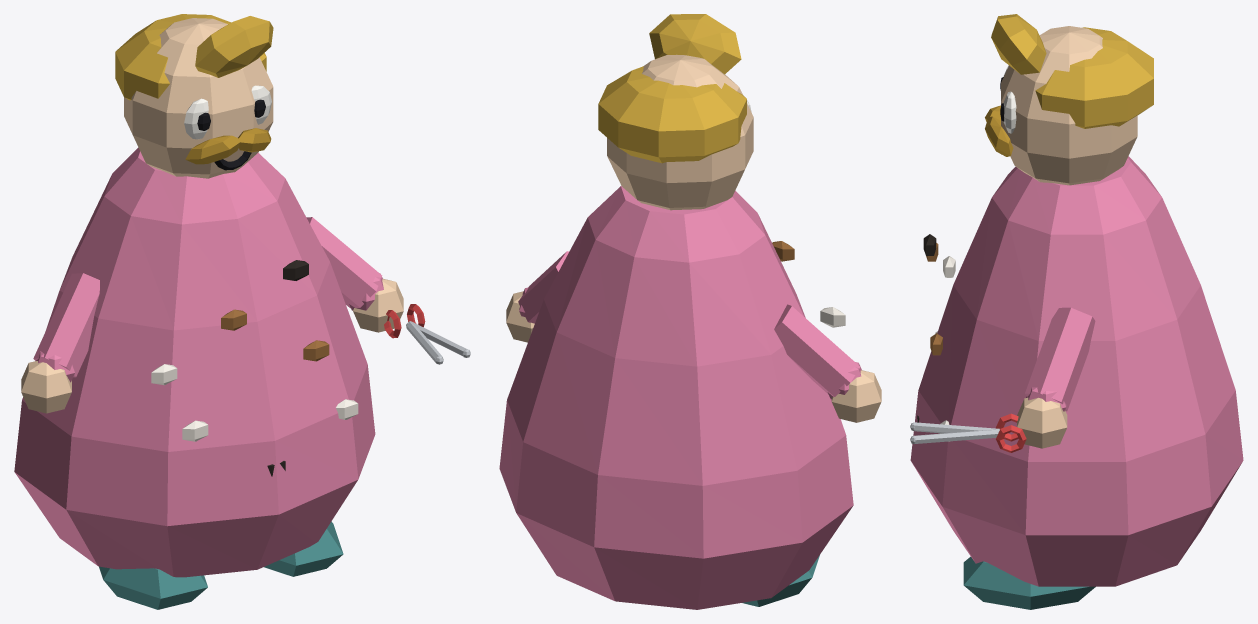
Rendered from npc_peluquero.glb.
3 views of the same model, side by side, from view 1: azimuth 30°, elevation 25°; view 2: azimuth 150°, elevation 25°; view 3: azimuth 270°, elevation 25° (orthographic).
Visible parts, largest first — view 1: body_groomer_smock, head_skin_crema, arms_groomer_smock, legs_clogs, arms_skin_crema, head_hair_blond, cap_hair_blond, face_mustache_blond, body_fur_white, face_white, props_silver, body_fur_brown (+1 smaller); view 2: body_groomer_smock, head_hair_blond, head_skin_crema, arms_groomer_smock, cap_hair_blond, arms_skin_crema, legs_clogs; view 3: body_groomer_smock, head_skin_crema, head_hair_blond, arms_groomer_smock, legs_clogs, cap_hair_blond, arms_skin_crema, props_silver, face_mustache_blond, props_scissor_grip, face_white.
Part boxes in pixels (left/top/right/bottom): body_groomer_smock: left=14, top=147, right=375, bottom=577; head_skin_crema: left=124, top=18, right=273, bottom=178; arms_groomer_smock: left=33, top=217, right=383, bottom=382; legs_clogs: left=99, top=521, right=343, bottom=609; arms_skin_crema: left=21, top=278, right=403, bottom=413; head_hair_blond: left=115, top=14, right=266, bottom=100; cap_hair_blond: left=195, top=16, right=273, bottom=77; face_mustache_blond: left=185, top=128, right=271, bottom=164; body_fur_white: left=151, top=364, right=358, bottom=441; face_white: left=184, top=85, right=271, bottom=139; props_silver: left=406, top=321, right=470, bottom=364; body_fur_brown: left=221, top=309, right=329, bottom=361; body_groomer_smock: left=499, top=186, right=853, bottom=609; head_hair_blond: left=598, top=66, right=746, bottom=163; head_skin_crema: left=607, top=54, right=753, bottom=210; arms_groomer_smock: left=518, top=251, right=861, bottom=399; cap_hair_blond: left=649, top=14, right=741, bottom=74; arms_skin_crema: left=506, top=291, right=881, bottom=422; legs_clogs: left=742, top=555, right=819, bottom=606; body_groomer_smock: left=910, top=156, right=1243, bottom=586; head_skin_crema: left=1001, top=26, right=1137, bottom=185; head_hair_blond: left=1035, top=27, right=1153, bottom=128; arms_groomer_smock: left=1025, top=307, right=1095, bottom=411; legs_clogs: left=963, top=556, right=1095, bottom=609; cap_hair_blond: left=991, top=14, right=1046, bottom=74; arms_skin_crema: left=1017, top=397, right=1067, bottom=448; props_silver: left=910, top=422, right=999, bottom=444; face_mustache_blond: left=985, top=105, right=1013, bottom=156; props_scissor_grip: left=996, top=425, right=1026, bottom=452; face_white: left=1003, top=65, right=1016, bottom=133.
Bounding box in the file's own units: 1.14 × 1.59 × 0.8604.
